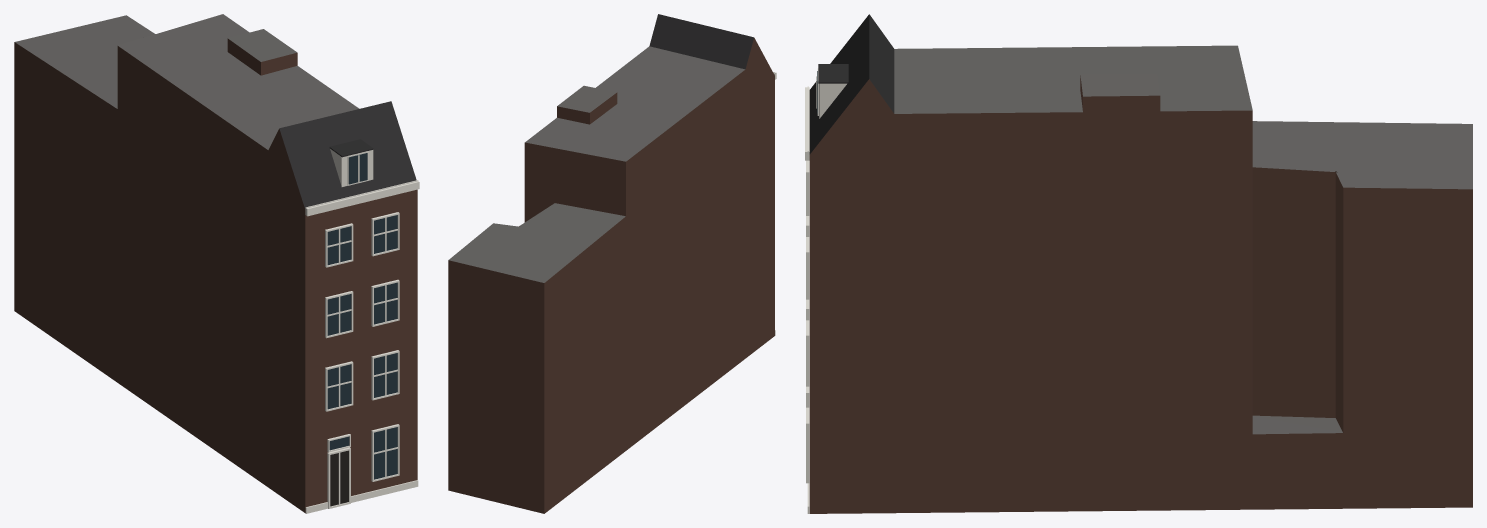
3 views of the same model, side by side, from view 1: azimuth 30°, elevation 25°; view 2: azimuth 150°, elevation 25°; view 3: azimuth 270°, elevation 25° (orthographic). The views are drawn at different scales.
Parts seen in each view (by area): view 1: spec-0363100012571643; view 2: spec-0363100012571643; view 3: spec-0363100012571643.
Part boxes in pixels (x1,y1,x2,y2): spec-0363100012571643: [14, 14, 419, 513]; spec-0363100012571643: [448, 14, 776, 513]; spec-0363100012571643: [805, 14, 1472, 513].
Size of the model in its own units: 6.28 by 17.88 by 24.9.
